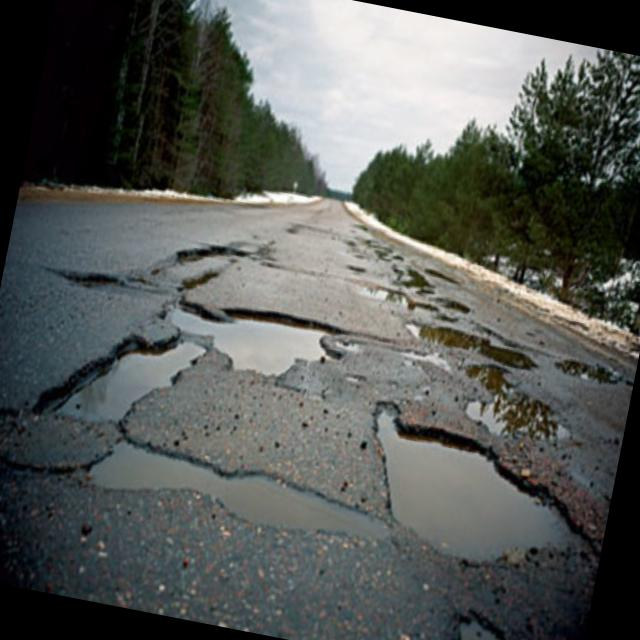Potholes: (10, 286, 418, 564), (323, 366, 624, 608), (14, 181, 281, 363), (397, 306, 551, 400), (393, 572, 539, 640), (548, 336, 630, 394)
